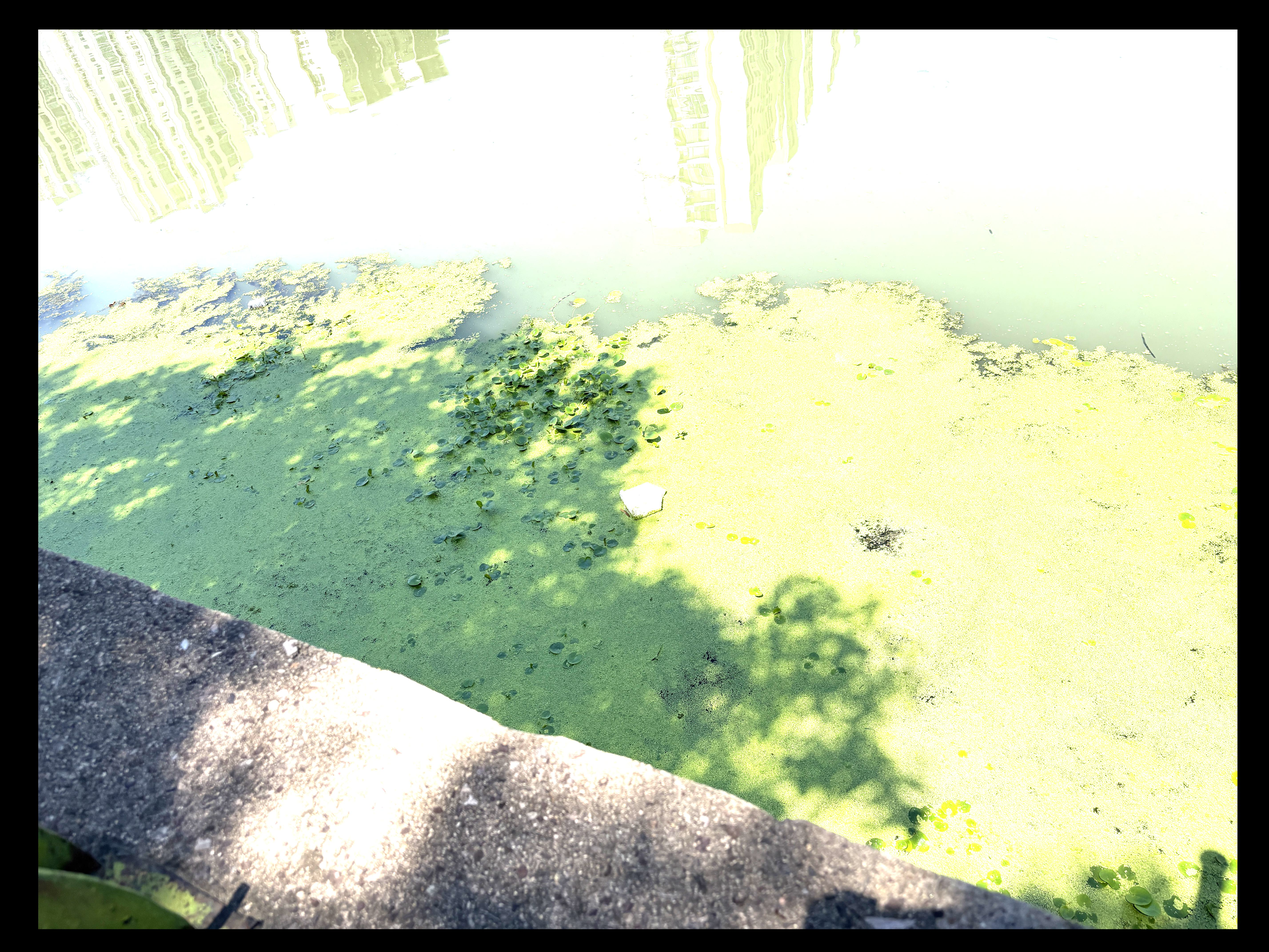Paper wastes: (247, 297, 268, 308)
Plastic wastes: (619, 482, 668, 514)
